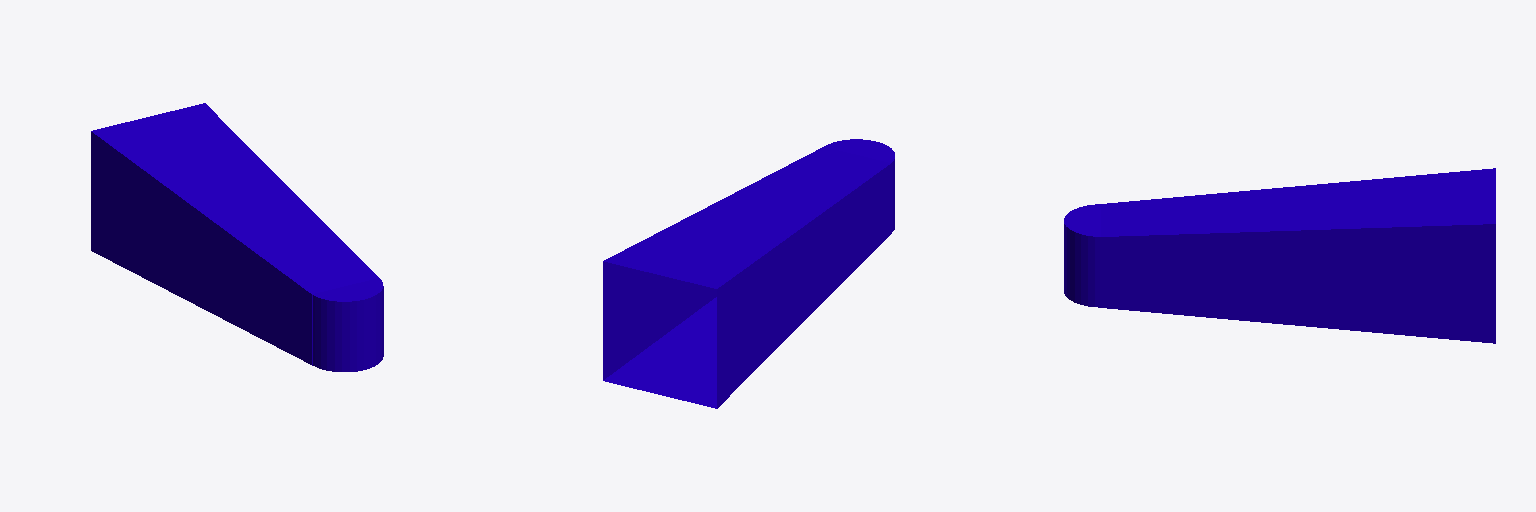
The model's file is flipper.obj.
The picture shows the model from 3 angles: view 1: azimuth 30°, elevation 25°; view 2: azimuth 150°, elevation 25°; view 3: azimuth 270°, elevation 25°; orthographic projection.
Bounding box in the file's own units: 3.96 × 3.96 × 12.96.